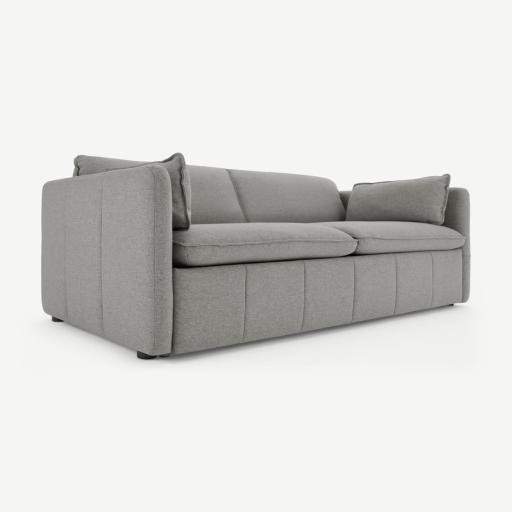back_cushion: (73, 153, 448, 229)
base: (175, 253, 437, 352)
left_arm: (443, 187, 469, 302)
legs: (137, 351, 169, 359), (52, 316, 64, 322)
right_arm: (42, 168, 174, 355)
seat_cushion: (173, 222, 464, 267)
two-seater: (0, 0, 511, 512)
